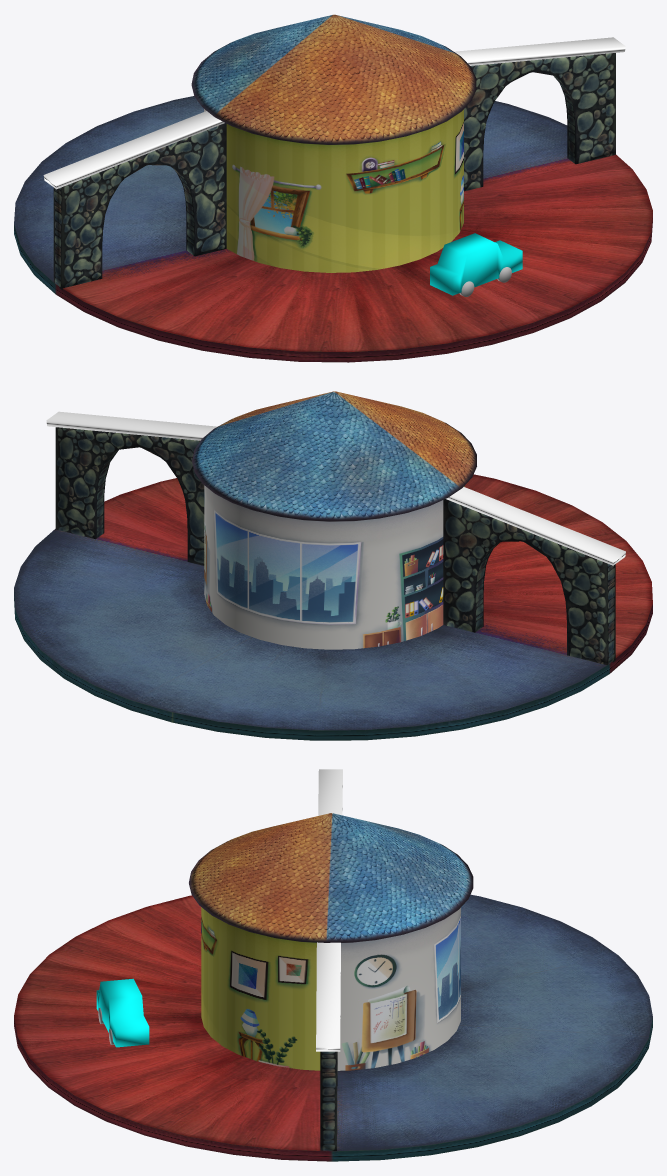
The model's file is Set_anim_Test_09 Bake_anim GLB.glb.
The picture shows the model from 3 angles, top to bottom: view 1: azimuth 30°, elevation 25°; view 2: azimuth 150°, elevation 25°; view 3: azimuth 270°, elevation 25°; orthographic projection.
Parts seen in each view (by area): view 1: Set_2, Set_4, Set_1, Set_3, Car_1; view 2: Set_2, Set_4, Set_1, Set_3; view 3: Set_2, Set_4, Set_3, Car_1, Set_1.
Part boxes in pixels (x1=…): Set_2: x1=14, y1=96, x2=652, y2=362; Set_4: x1=191, y1=14, x2=476, y2=272; Set_1: x1=53, y1=53, x2=615, y2=289; Set_3: x1=43, y1=37, x2=625, y2=189; Car_1: x1=430, y1=233, x2=522, y2=295; Set_2: x1=14, y1=474, x2=652, y2=740; Set_4: x1=192, y1=391, x2=476, y2=649; Set_1: x1=55, y1=427, x2=615, y2=664; Set_3: x1=46, y1=411, x2=625, y2=565; Set_2: x1=14, y1=894, x2=652, y2=1161; Set_4: x1=189, y1=813, x2=473, y2=1070; Set_3: x1=316, y1=769, x2=342, y2=1051; Car_1: x1=96, y1=978, x2=149, y2=1047; Set_1: x1=320, y1=1051, x2=337, y2=1150.
Bounding box in the file's own units: 173 × 63.36 × 168.
6 materials, 3 textured.
